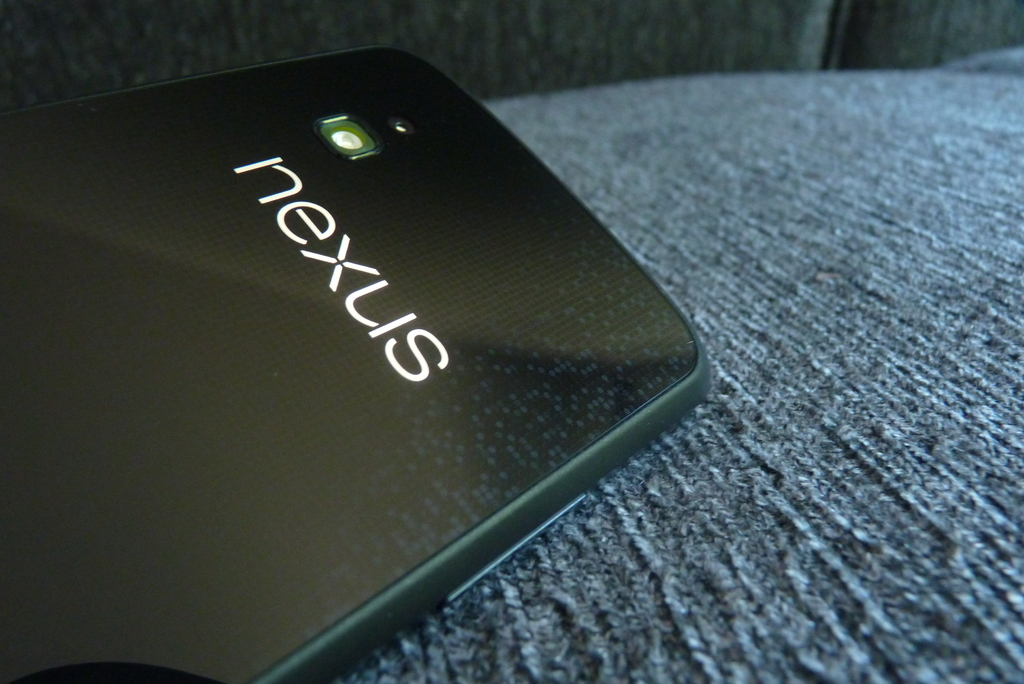Mobile-phone: (0, 41, 710, 684)
